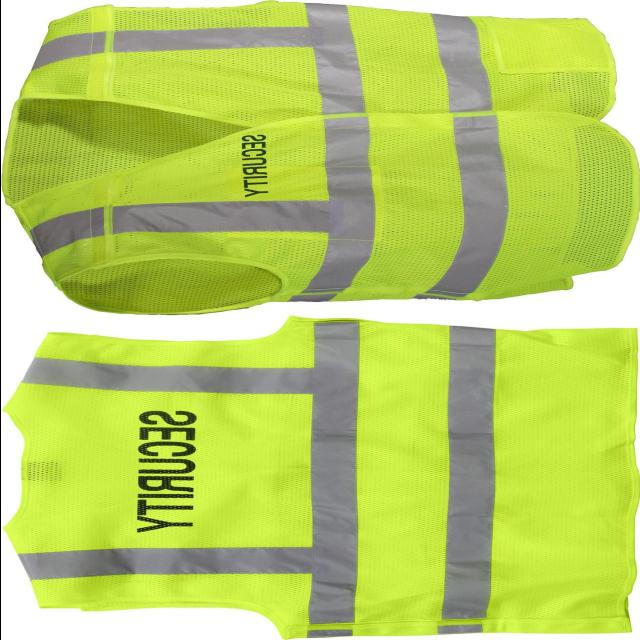jacket: (1, 4, 630, 318), (18, 326, 640, 640)
